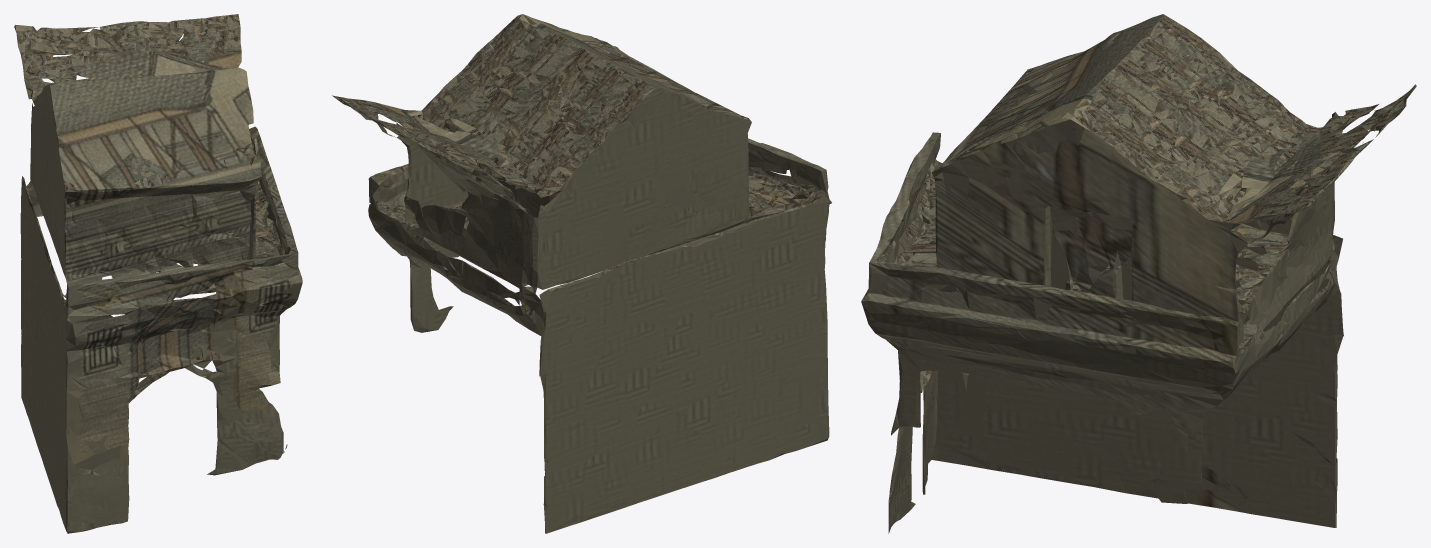
3 renders of one model, left to right at view 1: azimuth 30°, elevation 25°; view 2: azimuth 150°, elevation 25°; view 3: azimuth 270°, elevation 25°, orthographic. The views are drawn at different scales.
Visible parts, largest first — view 1: painted, wall, roof; view 2: wall, roof, painted; view 3: wall, painted, roof.
Boxes of the visible parts, x1,y1,x2,y2 form: painted: (27, 43, 302, 465); wall: (20, 27, 302, 533); roof: (14, 14, 290, 507); wall: (333, 87, 831, 533); roof: (332, 14, 831, 316); painted: (375, 14, 829, 283); wall: (861, 70, 1416, 533); painted: (861, 14, 1335, 512); roof: (876, 14, 1415, 502).
Bounding box in the file's own units: 6.84 × 7.76 × 7.87.
Materials: 3 (3 with a texture image).
